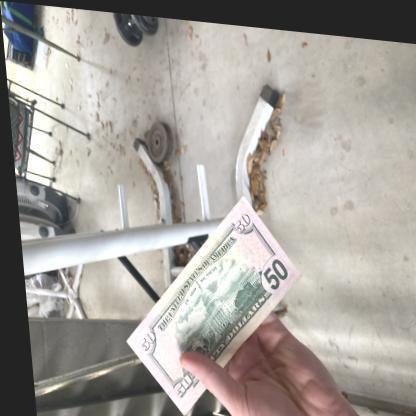dollar_back: (119, 190, 297, 412)
